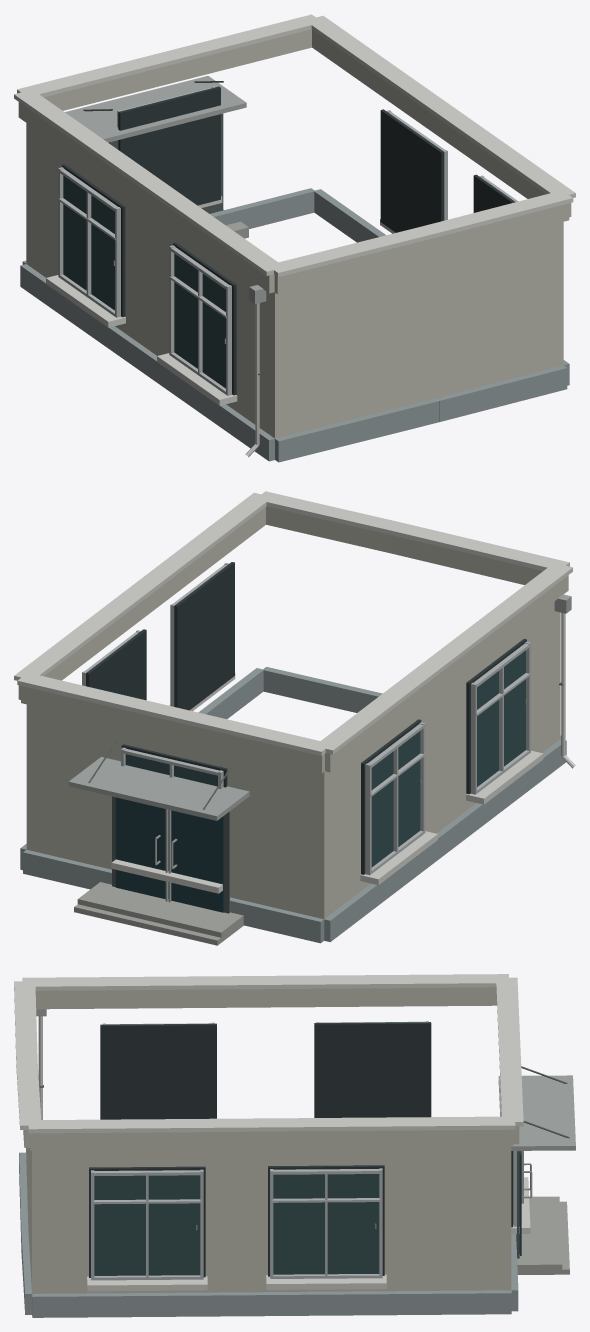
File: osm_way_224940517.glb
3 renders of one model, top to bottom at view 1: azimuth 30°, elevation 25°; view 2: azimuth 150°, elevation 25°; view 3: azimuth 270°, elevation 25°, orthographic.
Parts seen in each view (by area): view 1: Architecture | osm_way_224940517, Windows and facade details | osm_way_224940517, Roof services | osm_way_224940517, EXTERIOR::osm_way_224940517::inferred entry doors canopy and, EXTERIOR::osm_way_224940517::rainwater and roof service deta; view 2: Architecture | osm_way_224940517, Windows and facade details | osm_way_224940517, EXTERIOR::osm_way_224940517::inferred entry doors canopy and, Roof services | osm_way_224940517, EXTERIOR::osm_way_224940517::rainwater and roof service deta; view 3: Architecture | osm_way_224940517, Windows and facade details | osm_way_224940517, Roof services | osm_way_224940517, EXTERIOR::osm_way_224940517::inferred entry doors canopy and, EXTERIOR::osm_way_224940517::rainwater and roof service deta.
Boxes of the visible parts, x1,y1,x2,y2 form: Architecture | osm_way_224940517: (18, 29, 571, 462); Windows and facade details | osm_way_224940517: (46, 86, 518, 405); Roof services | osm_way_224940517: (14, 14, 575, 277); EXTERIOR::osm_way_224940517::inferred entry doors canopy and: (65, 76, 248, 238); EXTERIOR::osm_way_224940517::rainwater and roof service deta: (245, 285, 266, 457); Architecture | osm_way_224940517: (18, 506, 568, 943); Windows and facade details | osm_way_224940517: (82, 562, 543, 893); EXTERIOR::osm_way_224940517::inferred entry doors canopy and: (68, 740, 249, 945); Roof services | osm_way_224940517: (14, 491, 572, 755); EXTERIOR::osm_way_224940517::rainwater and roof service deta: (554, 594, 575, 768); Architecture | osm_way_224940517: (19, 987, 519, 1317); Windows and facade details | osm_way_224940517: (87, 1021, 530, 1291); Roof services | osm_way_224940517: (14, 974, 523, 1133); EXTERIOR::osm_way_224940517::inferred entry doors canopy and: (498, 1066, 575, 1274); EXTERIOR::osm_way_224940517::rainwater and roof service deta: (36, 1009, 46, 1119).
Size of the model in its own units: 8.22 by 4.54 by 12.09.
